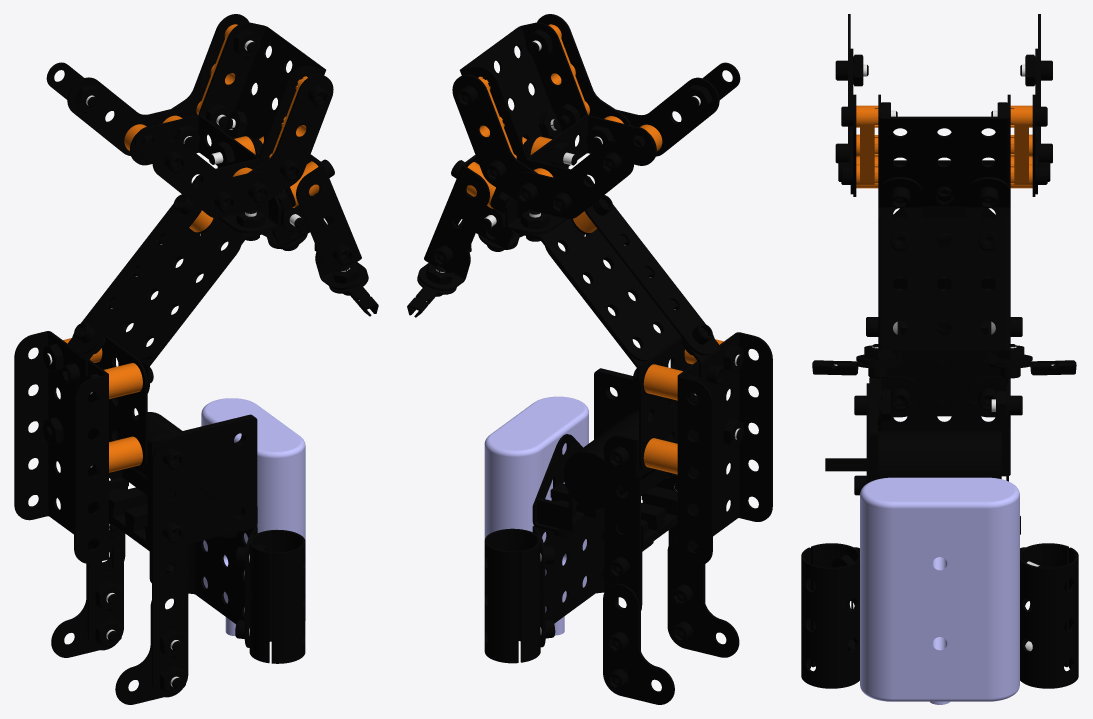
The picture shows the model from 3 angles, left to right: view 1: azimuth 30°, elevation 25°; view 2: azimuth 150°, elevation 25°; view 3: azimuth 270°, elevation 25°; orthographic projection. The views are drawn at different scales.
Visible parts, largest first — view 1: matte zinc, polished nickel, matte zinc-4, cast iron, white-pw-mt11050, white-pw-mt11050-2, white-pw-mt11050-3, (No material); view 2: matte zinc, polished nickel, matte zinc-4, cast iron, white-pw-mt11050, white-pw-mt11050-2, white-pw-mt11050-3; view 3: white-pw-mt11050, matte zinc, polished nickel, cast iron, white-pw-mt11050-3, matte zinc-4, polished bronze.
Boxes of the visible parts, left/top/right/bottom form: matte zinc: left=43, top=14, right=378, bottom=704; polished nickel: left=14, top=22, right=361, bottom=563; matte zinc-4: left=106, top=217, right=271, bottom=647; cast iron: left=109, top=412, right=257, bottom=552; white-pw-mt11050: left=201, top=398, right=305, bottom=636; white-pw-mt11050-2: left=63, top=115, right=319, bottom=472; white-pw-mt11050-3: left=196, top=24, right=307, bottom=158; (No material): left=47, top=40, right=350, bottom=686; matte zinc: left=407, top=14, right=743, bottom=704; polished nickel: left=424, top=22, right=772, bottom=565; matte zinc-4: left=515, top=217, right=680, bottom=647; cast iron: left=537, top=368, right=677, bottom=548; white-pw-mt11050: left=484, top=396, right=588, bottom=635; white-pw-mt11050-2: left=466, top=116, right=723, bottom=474; white-pw-mt11050-3: left=478, top=24, right=589, bottom=158; white-pw-mt11050: left=860, top=477, right=1019, bottom=704; matte zinc: left=801, top=14, right=1078, bottom=688; polished nickel: left=878, top=94, right=1010, bottom=476; cast iron: left=869, top=377, right=1001, bottom=482; white-pw-mt11050-3: left=856, top=105, right=1032, bottom=185; matte zinc-4: left=847, top=277, right=1032, bottom=641; polished bronze: left=825, top=458, right=869, bottom=471.
Bounding box in the file's own units: 10.49 × 20.41 × 7.99.
